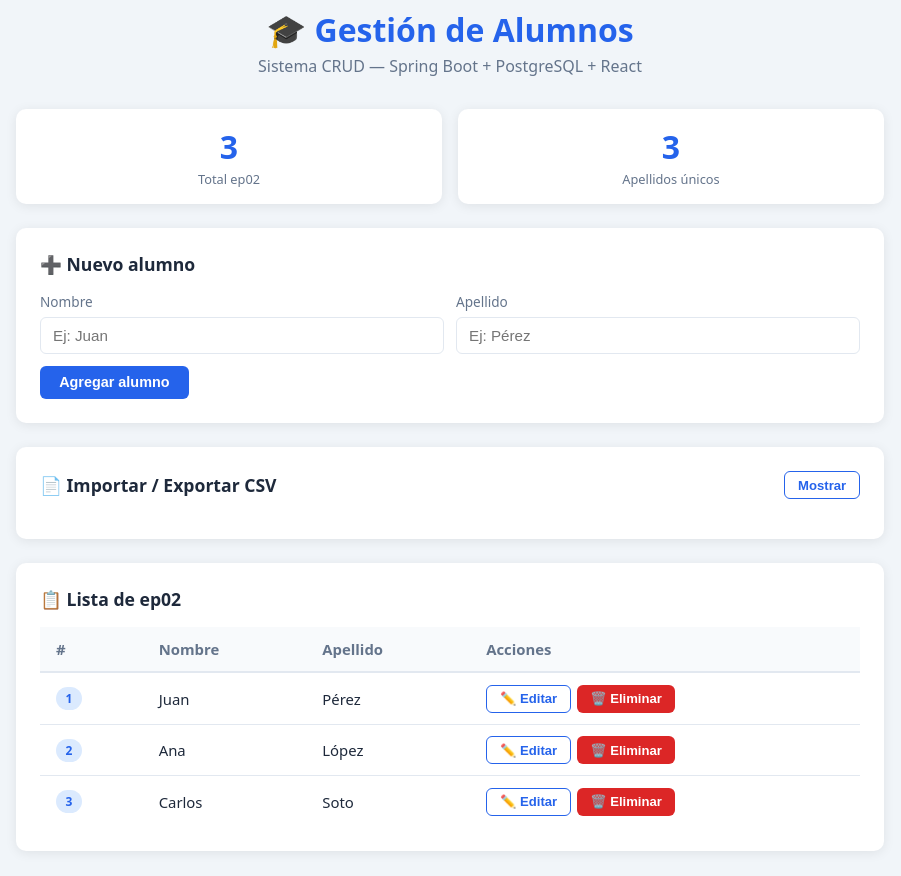
Test: App — flujo de creación › crea un alumno y muestra mensaje de éxito
In the field labelled "Nombre": point(242, 335) [40, 317, 444, 354], type "Pedro"
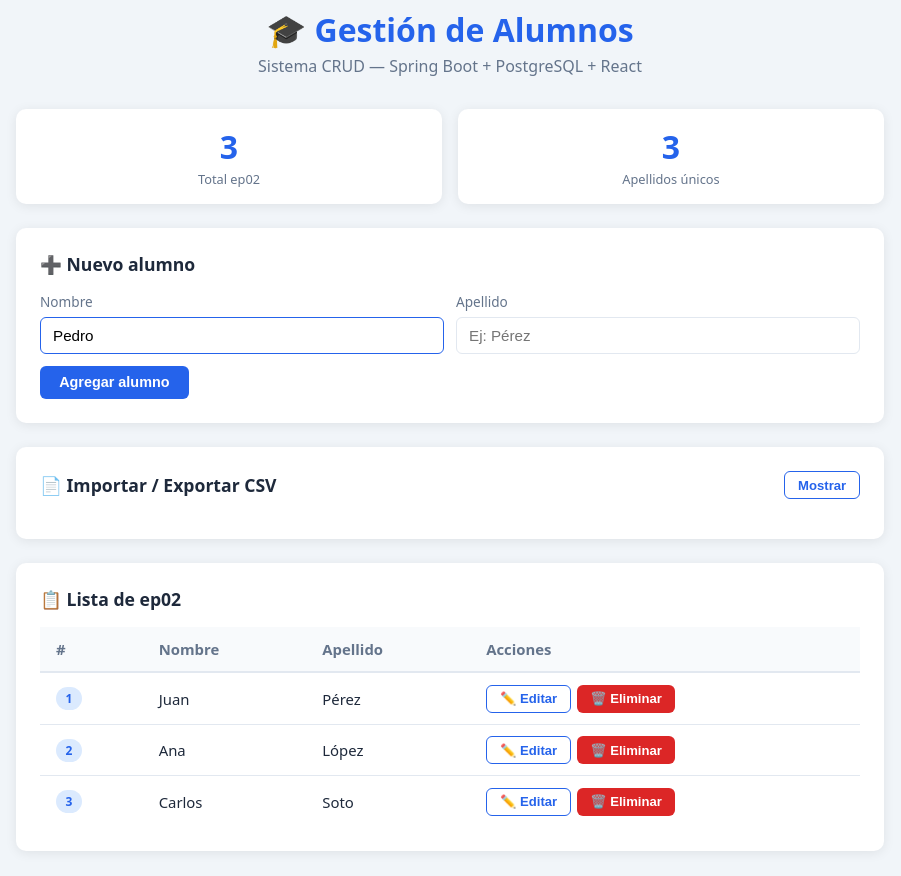
In the field labelled "Apellido": point(658, 335) [456, 317, 860, 354], type "Soto"
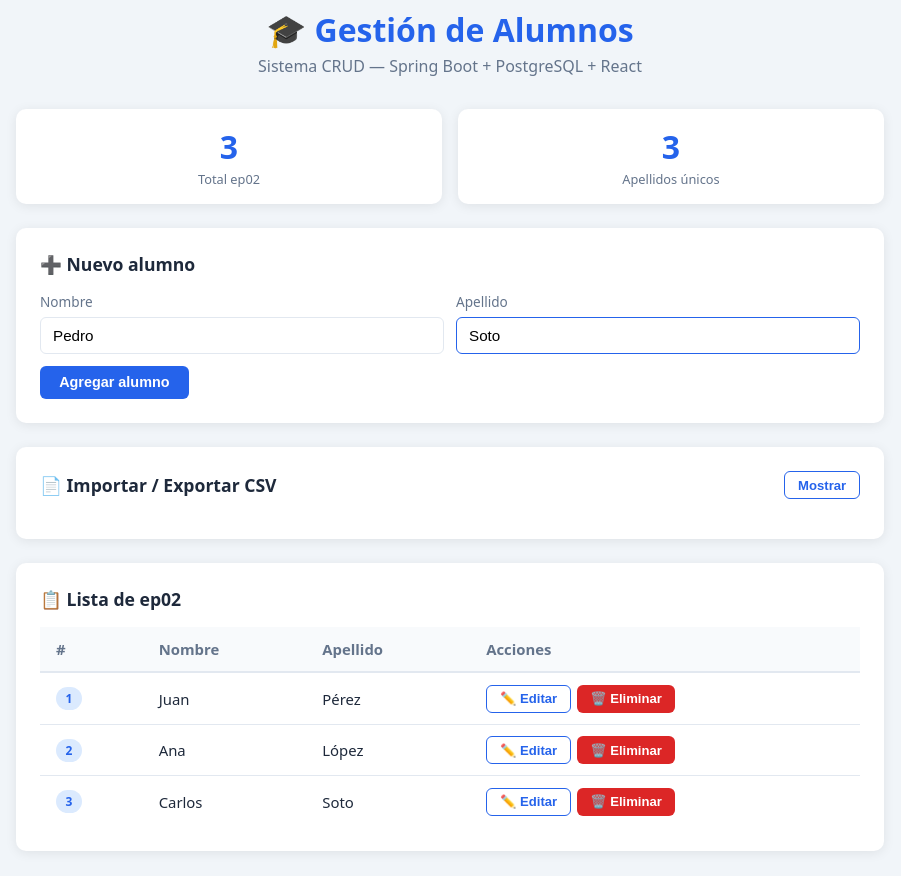
Submit the form "Nombre Apellido Agregar alumno", box [40, 292, 860, 399]
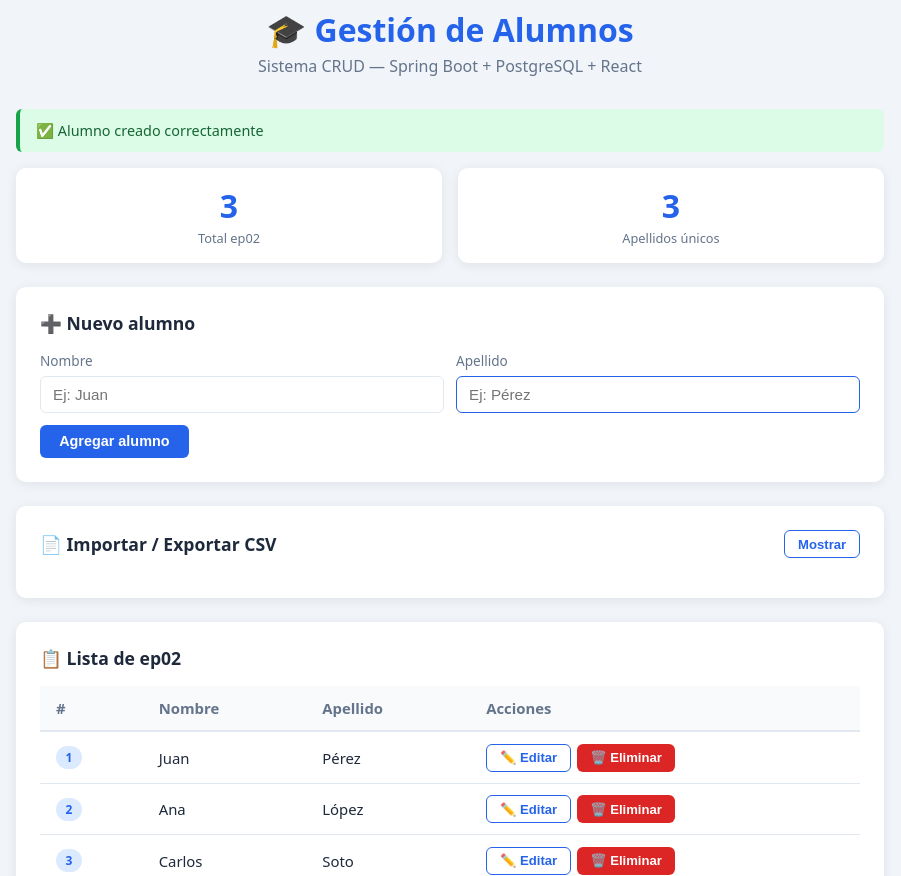
Check: the text "✅ Alumno creado correctamente" is shown, box [16, 109, 884, 152]
